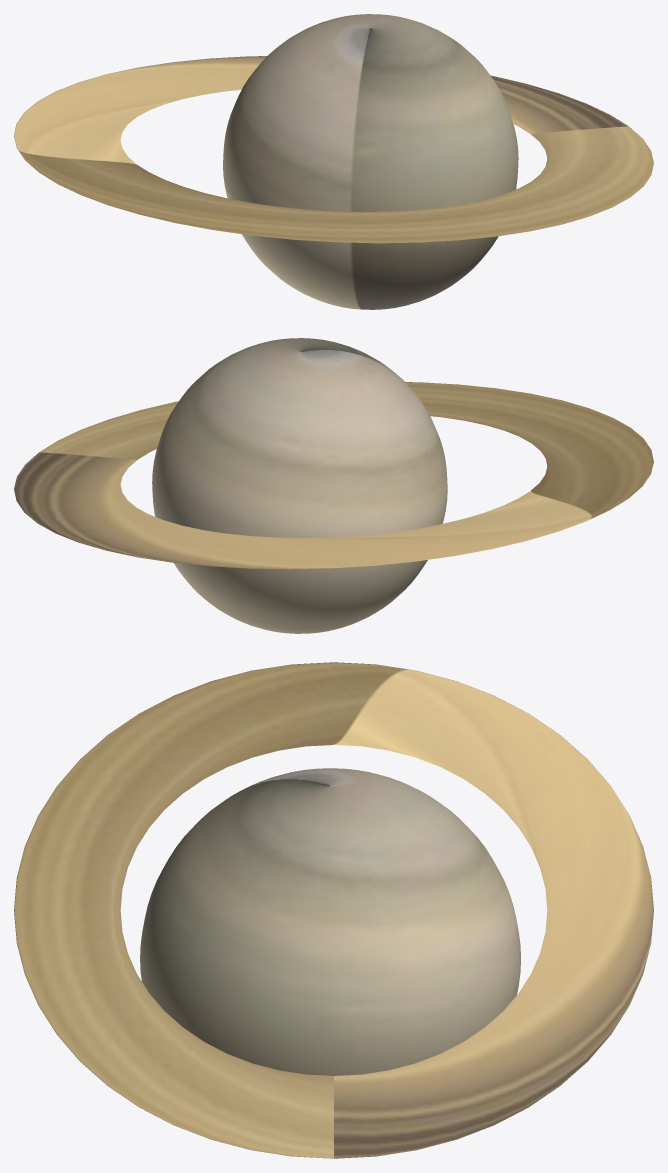
The model's file is saturn.glb.
The picture shows the model from 3 angles, top to bottom: view 1: azimuth 30°, elevation 25°; view 2: azimuth 150°, elevation 25°; view 3: azimuth 270°, elevation 25°; orthographic projection. The views are drawn at different scales.
Parts seen in each view (by area): view 1: sun_GEO 2, Torus; view 2: sun_GEO 2, Torus; view 3: Torus, sun_GEO 2.
Part boxes in pixels (box(x1,y1,x2,y2)): sun_GEO 2: box(223, 14, 518, 309); Torus: box(14, 56, 653, 243); sun_GEO 2: box(152, 338, 447, 633); Torus: box(14, 382, 653, 569); Torus: box(14, 662, 653, 1158); sun_GEO 2: box(140, 768, 520, 1075).
Bounding box in the file's own units: 0.6833 × 0.297 × 0.4987.
2 materials, 2 textured.
